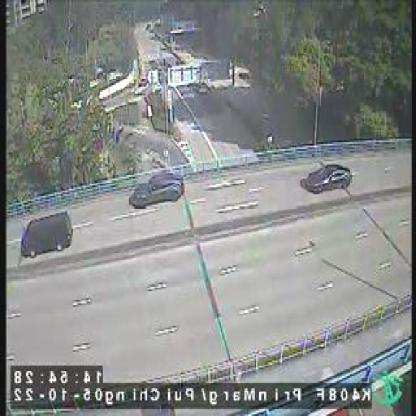Car: (22, 210, 73, 256), (133, 172, 183, 206), (307, 161, 352, 191)
